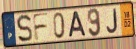0: (53, 12, 66, 40)
9: (87, 7, 102, 38)
A: (68, 11, 88, 39)
F: (32, 12, 50, 43)
J: (106, 8, 119, 34)
S: (16, 13, 34, 44)
